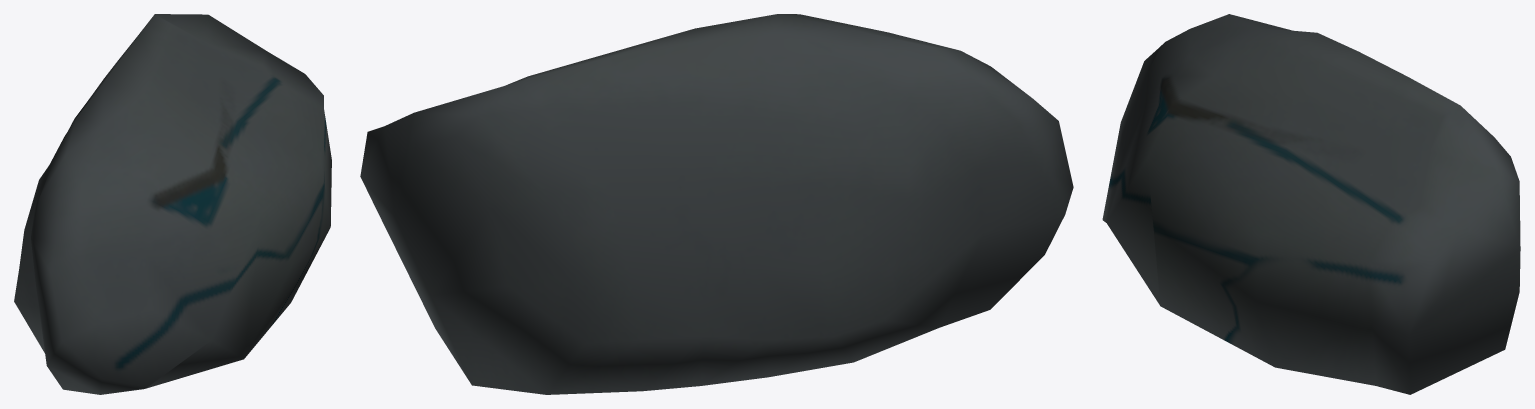
The model's file is stone06.fbx.
3 views of the same model, side by side, from view 1: azimuth 30°, elevation 25°; view 2: azimuth 150°, elevation 25°; view 3: azimuth 270°, elevation 25° (orthographic). The views are drawn at different scales.
Parts seen in each view (by area): view 1: polySurface18; view 2: polySurface18; view 3: polySurface18.
Boxes of the visible parts, left/top/right/bottom form: polySurface18: left=14, top=14, right=331, bottom=394; polySurface18: left=360, top=14, right=1073, bottom=394; polySurface18: left=1102, top=14, right=1520, bottom=394.
Size of the model in its own units: 2.55 by 1.49 by 2.22.
Materials: 1 (1 with a texture image).
